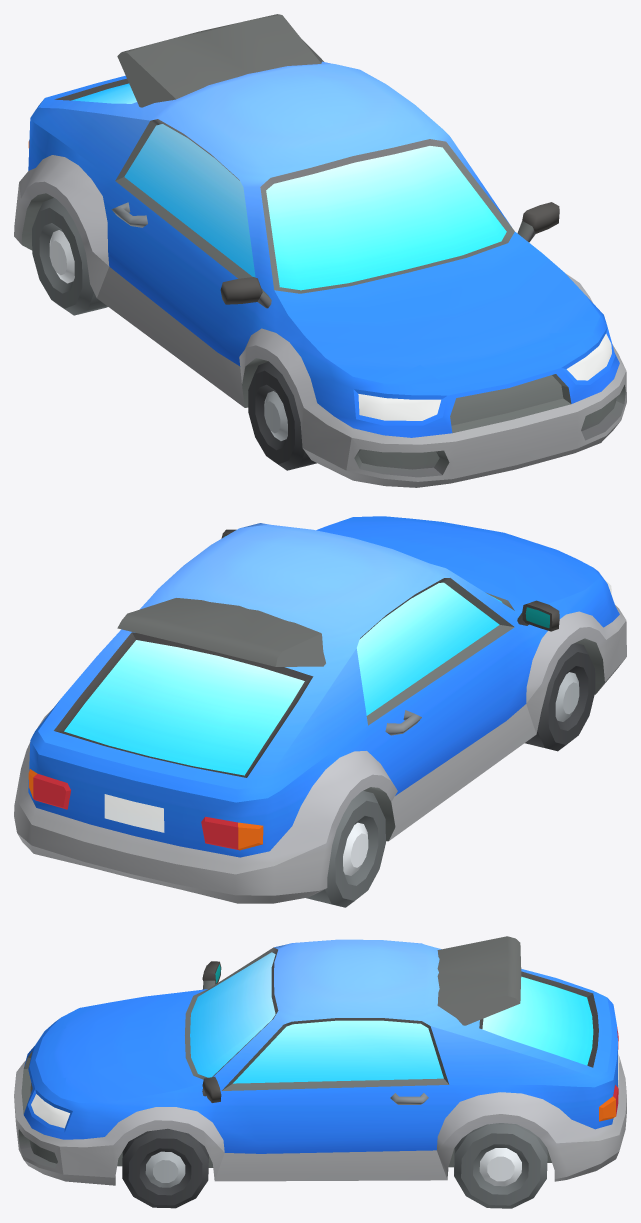
The model's file is city2-car-39.glb.
3 renders of one model, top to bottom at view 1: azimuth 30°, elevation 25°; view 2: azimuth 150°, elevation 25°; view 3: azimuth 270°, elevation 25°, orthographic. The views are drawn at different scales.
Parts seen in each view (by area): view 1: Car_1.001, Wheel_110, Wheel_109; view 2: Car_1.001, Wheel_110, Wheel_109; view 3: Car_1.001, Wheel_112, Wheel_111.
Boxes of the visible parts, x1,y1,x2,y2 form: Car_1.001: (14,14,626,487); Wheel_110: (32,198,107,315); Wheel_109: (248,361,316,470); Car_1.001: (14,516,626,903); Wheel_110: (306,791,385,907); Wheel_109: (525,643,595,751); Car_1.001: (14,936,626,1185); Wheel_112: (454,1123,547,1208); Wheel_111: (122,1128,208,1208).
Bounding box in the file's own units: 2.44 × 1.67 × 4.9.
2 materials, 2 textured.
